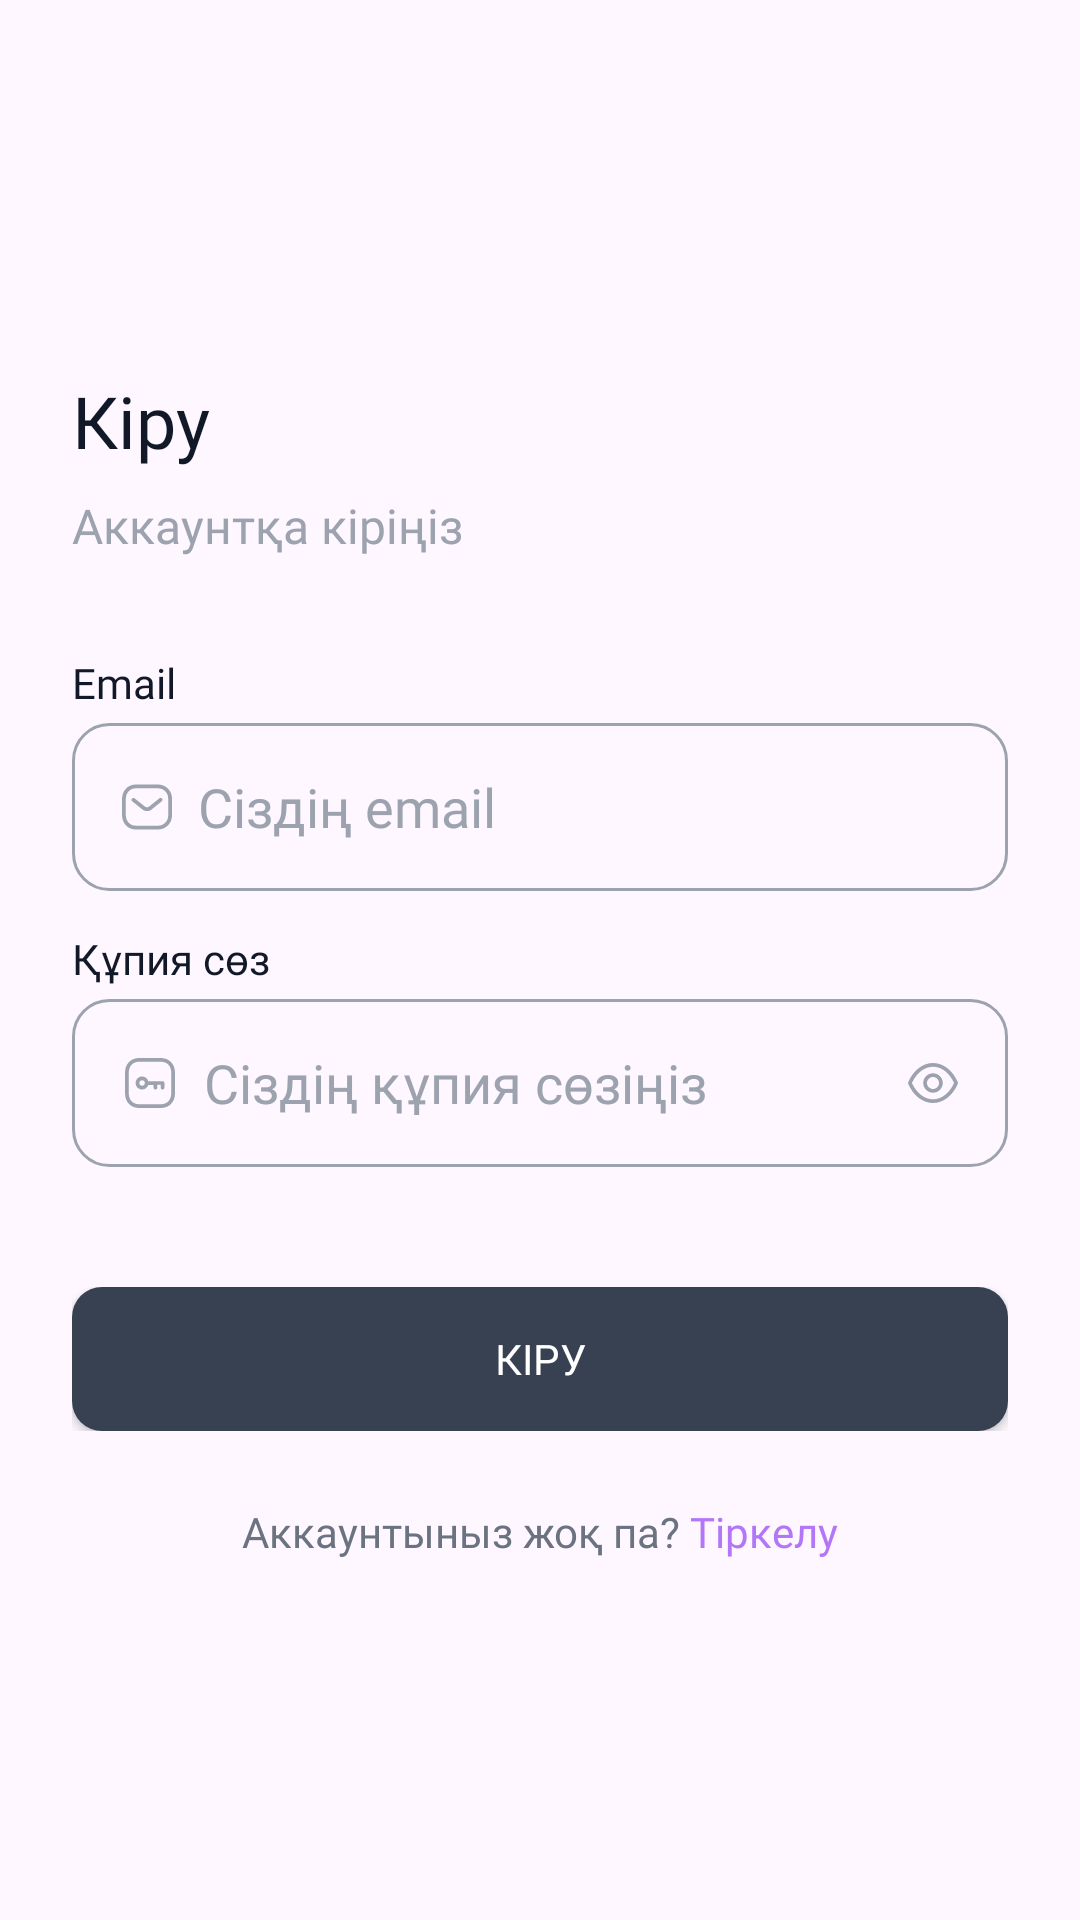

Icon bounding boxes for this 1080px×1920px phone screenshot, format (x1=x1, y1=y1, x2=x2, y2=y2):
password show: (x1=908, y1=1063, x2=958, y2=1103)
